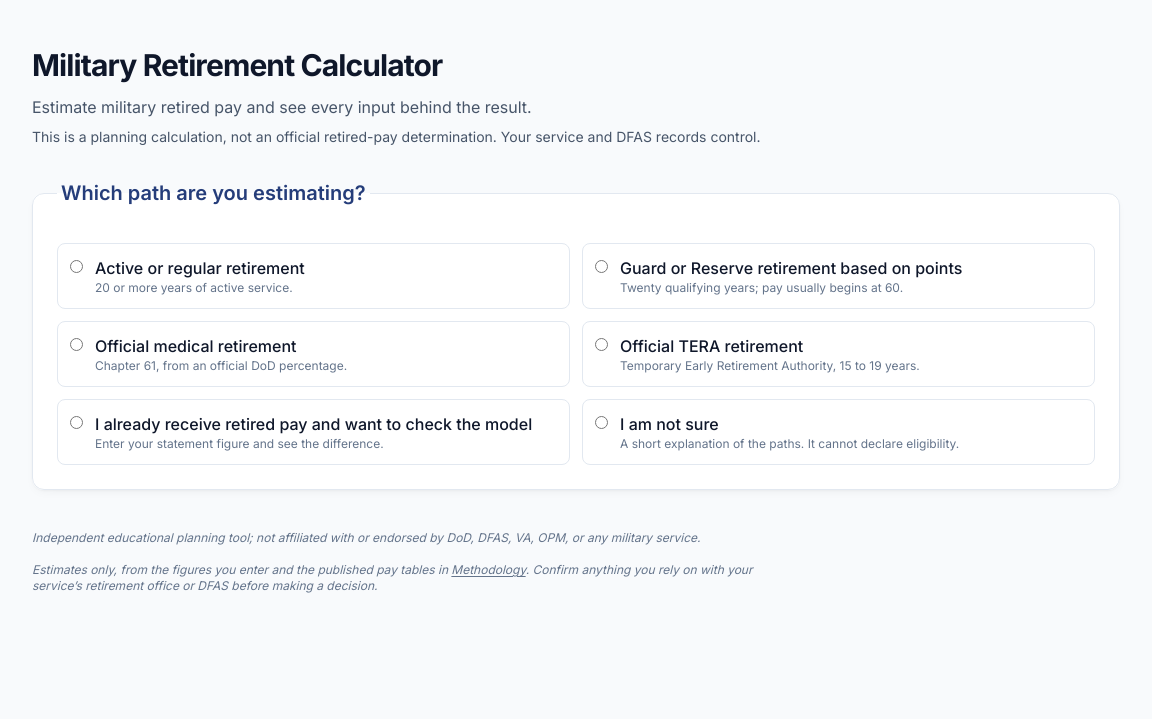
it: PublicMilitaryRetirementCalculator › signed out: a sign-up prompt; signed in: connects the result to the plan as a linked stream
The width and height of the screenshot is (1152, 719).
Step 1. Click the radio button labelled "Active or regular retirement" → (76, 266), box [70,260,83,273]
(page scrolled)
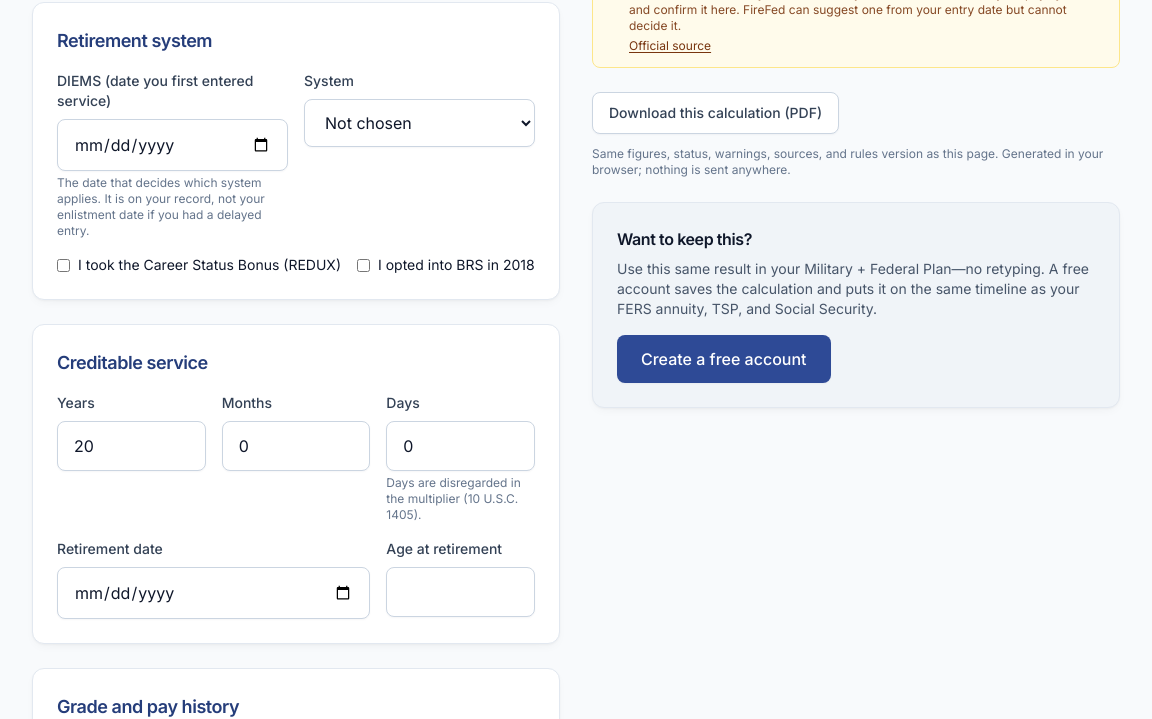
Expected: the link "Create a free account" is shown, [617,335,830,383]
